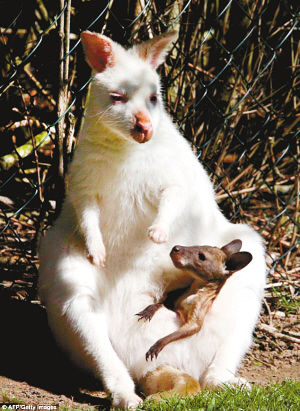kangaroo: (36, 23, 270, 411), (135, 238, 254, 362)
